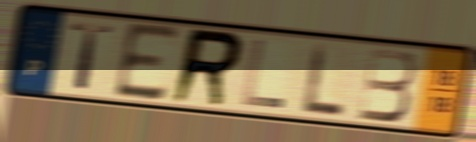B: (355, 46, 419, 125)
E: (111, 19, 184, 105)
L: (301, 40, 347, 118), (240, 37, 287, 111)
R: (167, 25, 247, 110)
T: (68, 20, 117, 93)
